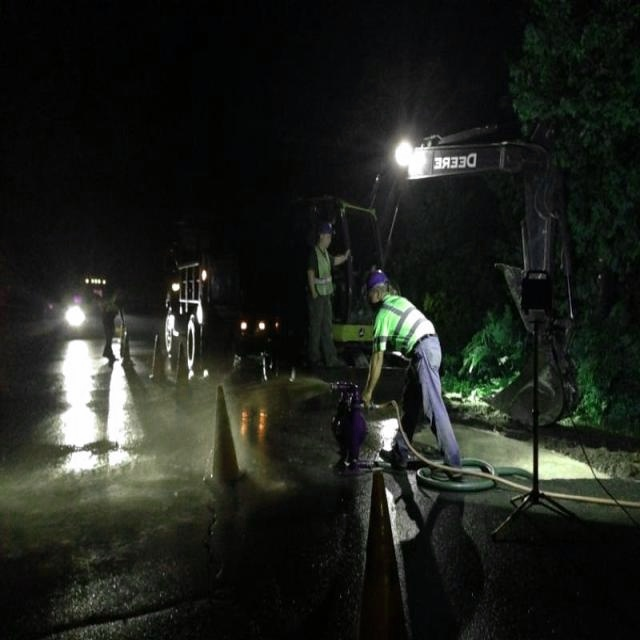Con_Chaleco: (374, 297, 436, 359), (308, 248, 335, 297)
